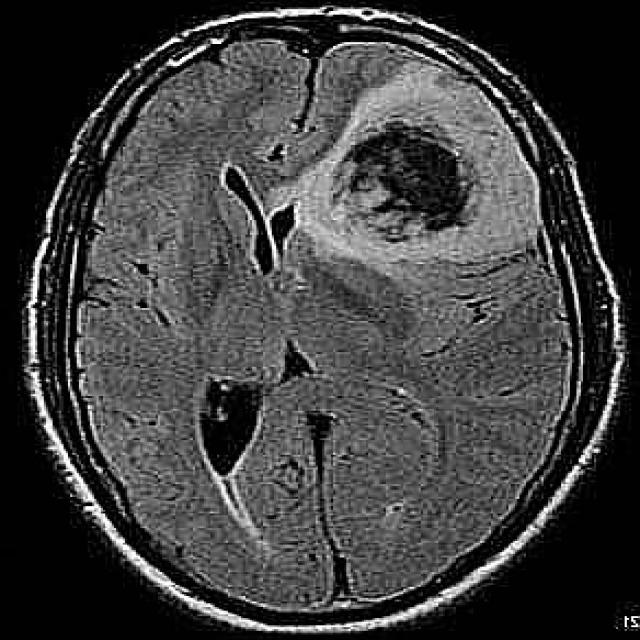Tumor-Cell: (305, 110, 494, 260)
